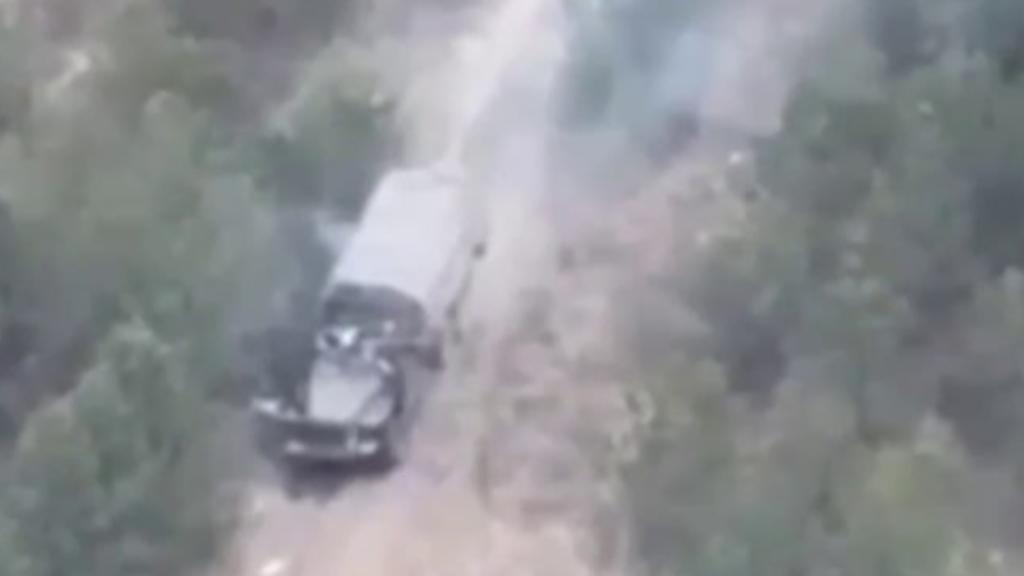TRUCK: (262, 167, 492, 475)
